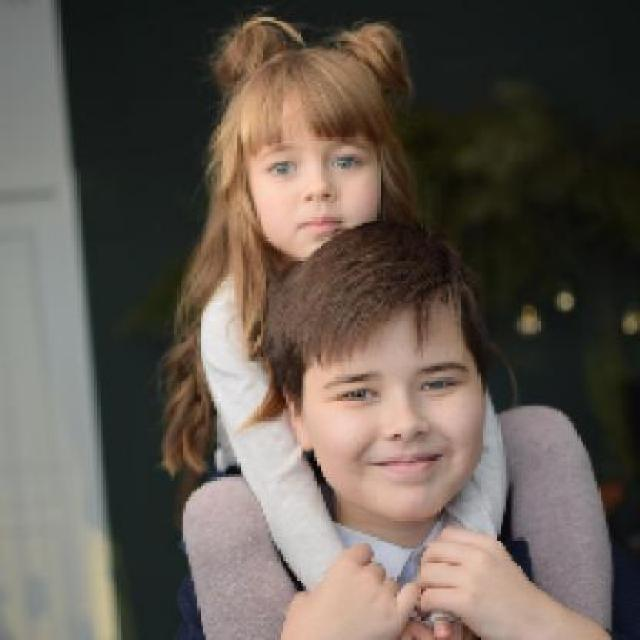child: (161, 19, 510, 638)
